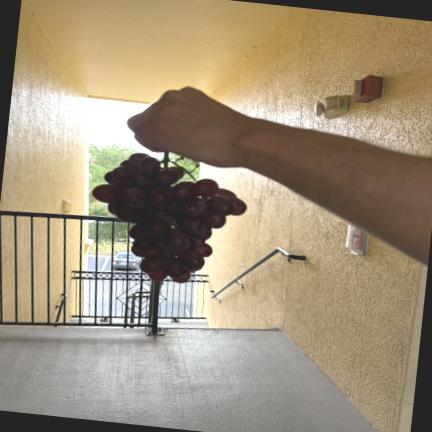grape_cluster: (92, 153, 246, 283)
